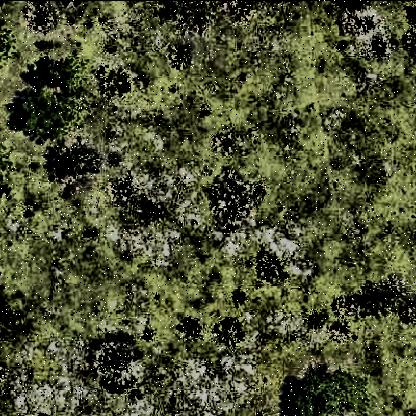tree-top: (15, 55, 94, 141), (283, 373, 371, 416), (90, 333, 147, 388), (48, 137, 101, 186)
